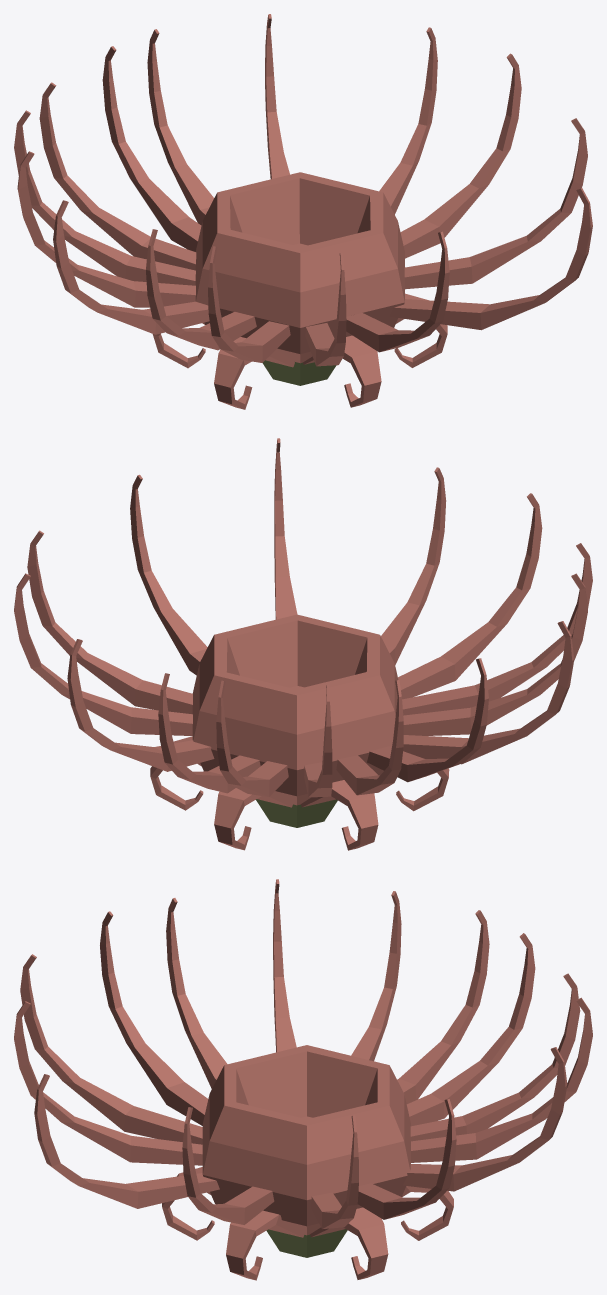
File: red_lily_item.fbx
3 renders of one model, top to bottom at view 1: azimuth 30°, elevation 25°; view 2: azimuth 150°, elevation 25°; view 3: azimuth 270°, elevation 25°, orthographic.
Visible parts, largest first — view 1: red_lily; view 2: red_lily; view 3: red_lily.
Boxes of the visible parts, x1,y1,x2,y2 form: red_lily: (14, 14, 592, 409); red_lily: (14, 438, 592, 850); red_lily: (14, 879, 592, 1280).
Bounding box in the file's own units: 0.291 × 0.1341 × 0.2894.
